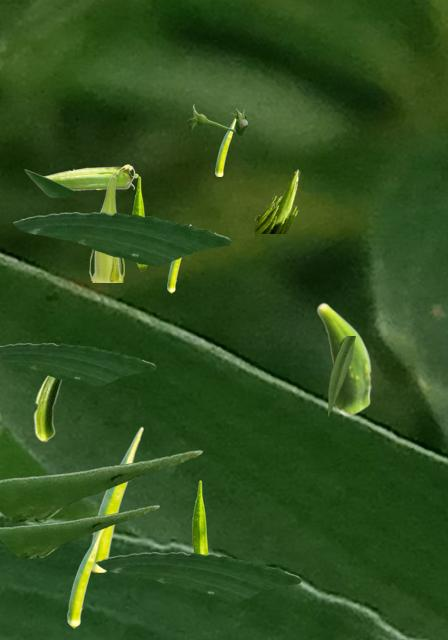okra: (91, 426, 142, 571), (316, 302, 371, 415), (88, 175, 123, 281), (67, 529, 104, 627), (252, 169, 299, 232), (44, 164, 137, 189), (33, 376, 62, 441), (167, 224, 190, 292), (132, 176, 147, 270), (192, 480, 208, 554), (215, 118, 235, 175)
